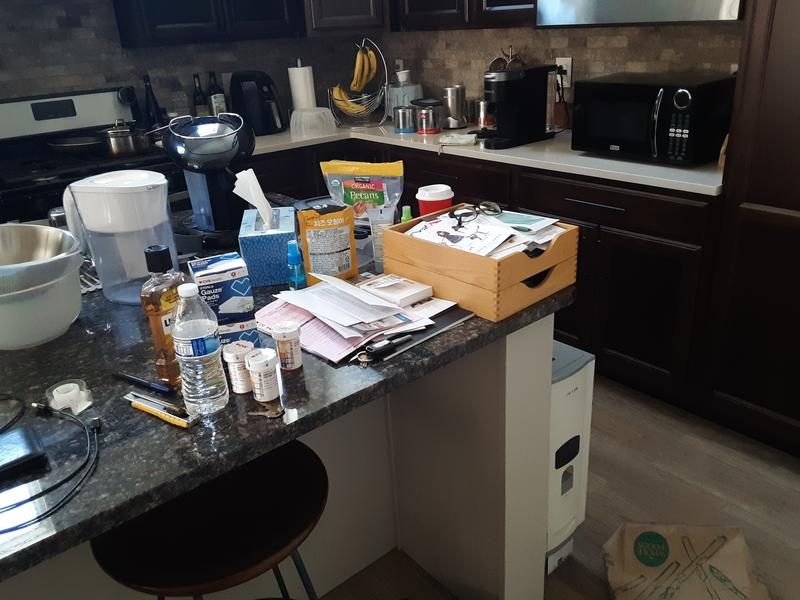glasses: (447, 201, 506, 224)
